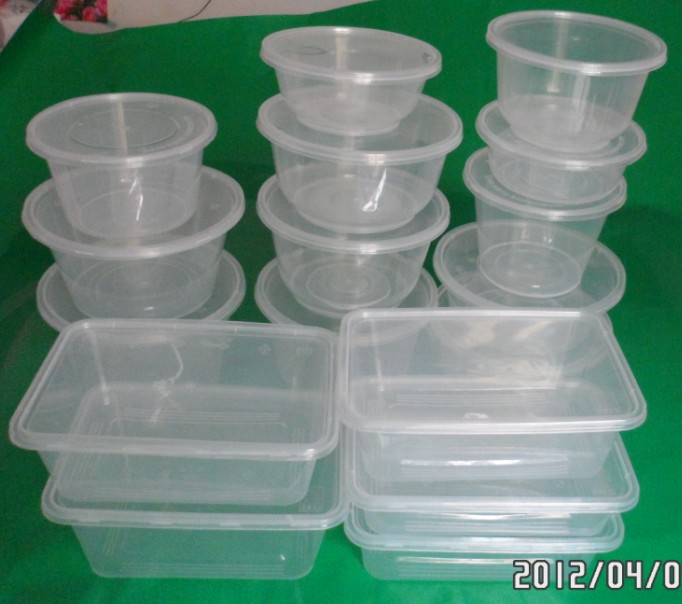PlasticBox: (330, 299, 651, 491), (20, 87, 221, 239), (483, 7, 673, 157), (258, 22, 447, 137)
